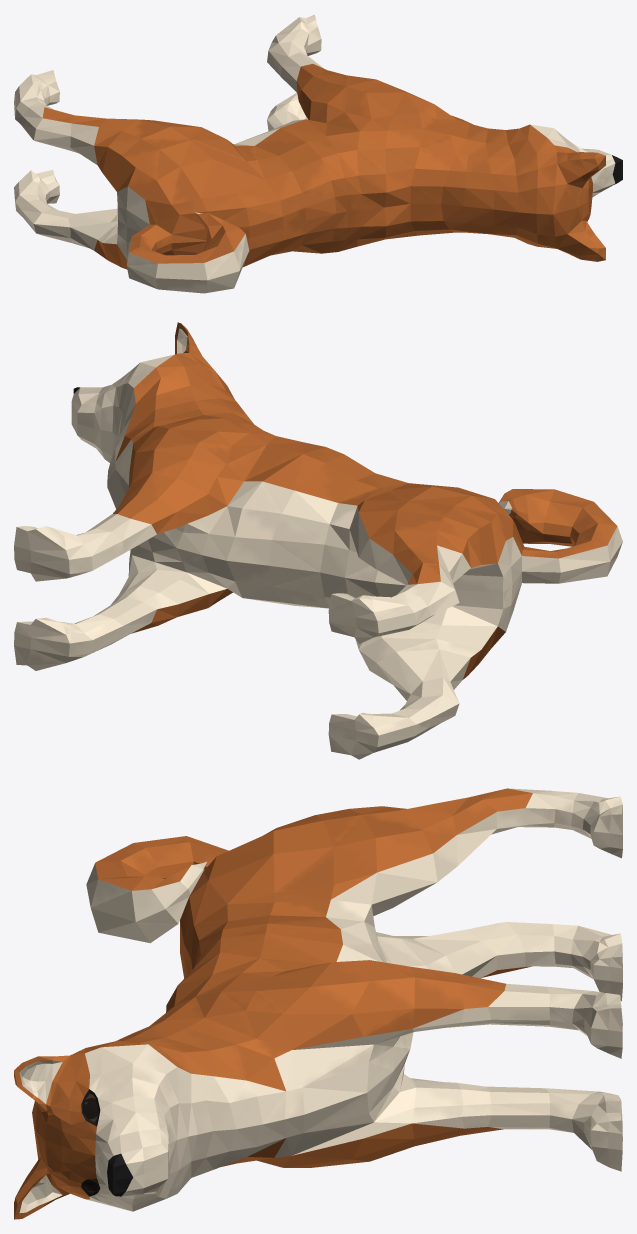
File: dog_shiba.obj
The picture shows the model from 3 angles, top to bottom: view 1: azimuth 30°, elevation 25°; view 2: azimuth 150°, elevation 25°; view 3: azimuth 270°, elevation 25°; orthographic projection. The views are drawn at different scales.
Visible parts, largest first — view 1: dog_shiba; view 2: dog_shiba; view 3: dog_shiba.
Boxes of the visible parts, <box> form: dog_shiba: <box>14,14,622,293</box>; dog_shiba: <box>14,322,622,759</box>; dog_shiba: <box>14,788,622,1219</box>.
Bounding box in the file's own units: 0.6723 × 0.1824 × 0.5271.
1 material, 1 textured.
